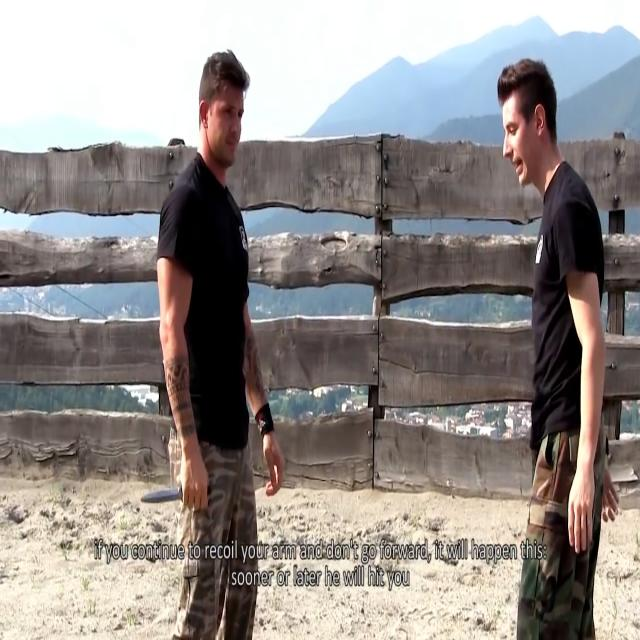knife: (140, 483, 186, 515)
